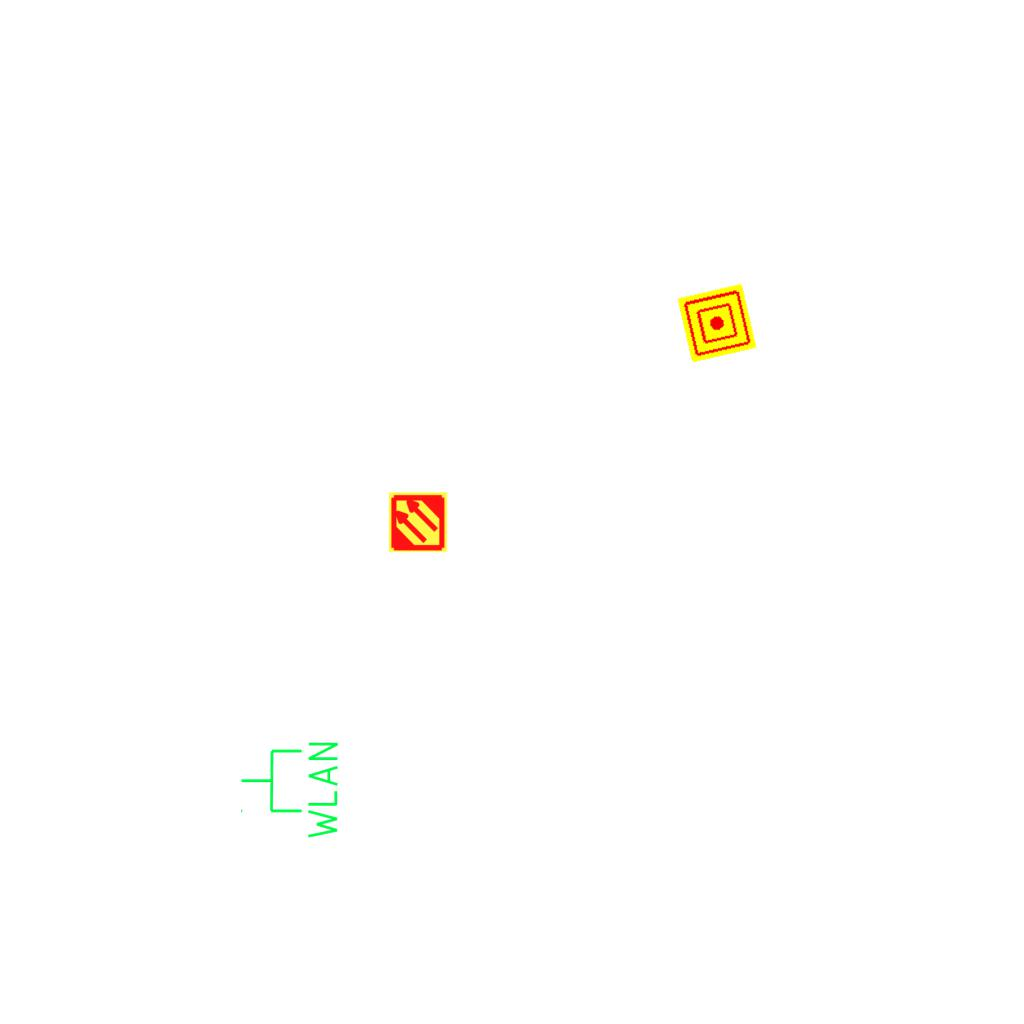ASR_Ansaugrauchmelder: (387, 491, 449, 553)
NAM-Nichtautomatischer_Melder: (677, 283, 757, 363)
WLAN: (238, 738, 342, 843)
